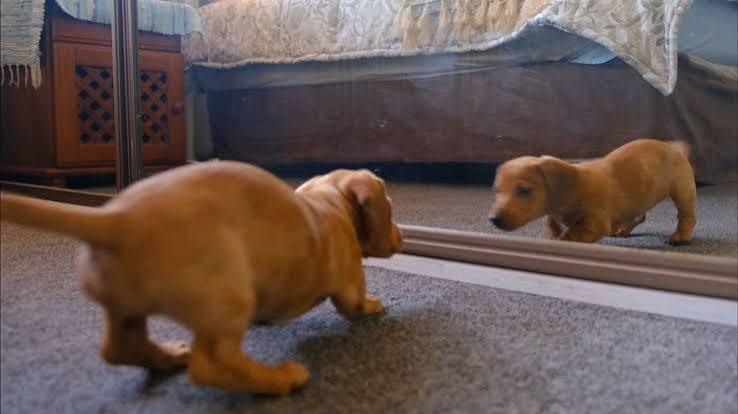puppy-dog: (0, 154, 404, 397), (487, 137, 699, 248)
